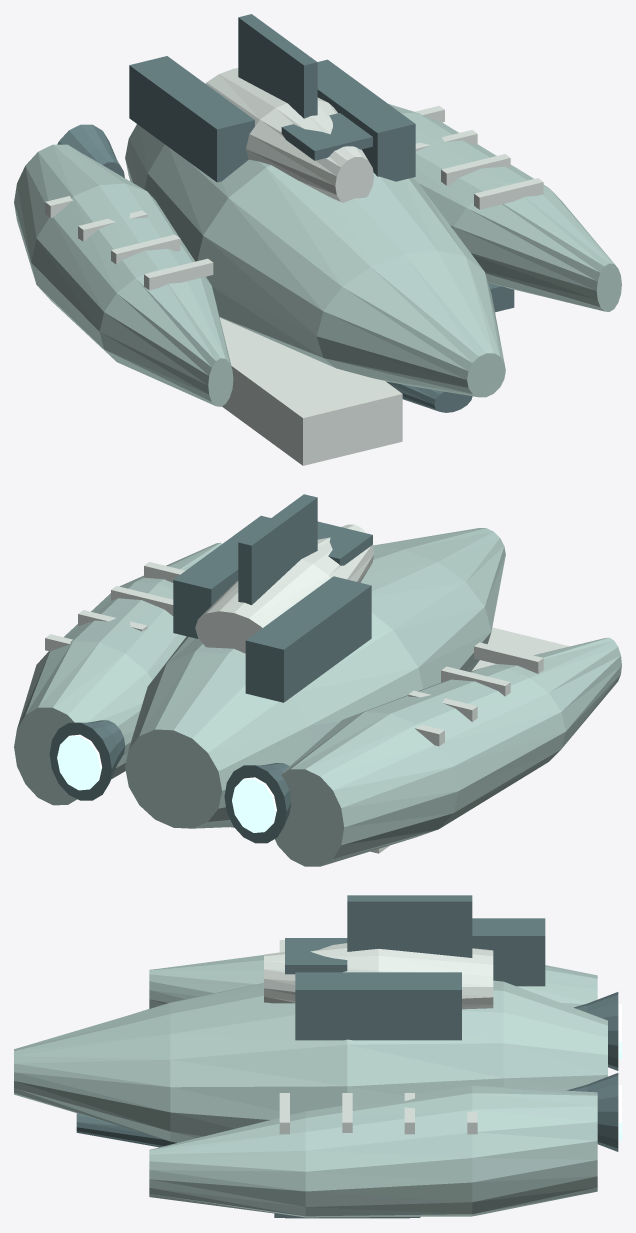
3 renders of one model, top to bottom at view 1: azimuth 30°, elevation 25°; view 2: azimuth 150°, elevation 25°; view 3: azimuth 270°, elevation 25°, orthographic. The views are drawn at different scales.
Size of the model in its own units: 7.36 by 4.23 by 8.75.
